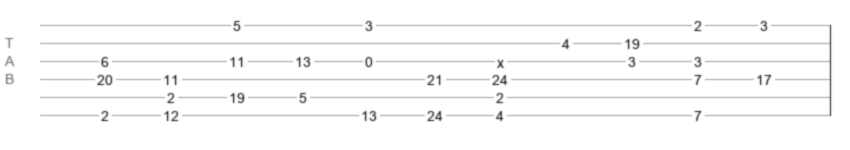0: (365, 54, 373, 64)
11: (163, 72, 179, 82), (229, 54, 245, 64)
12: (163, 108, 179, 118)
13: (295, 54, 311, 64), (361, 108, 377, 118)
17: (756, 72, 772, 82)
19: (229, 90, 245, 100), (624, 36, 640, 46)
2: (101, 108, 109, 118), (167, 90, 175, 100), (496, 90, 504, 100), (694, 18, 702, 28)
20: (97, 72, 113, 82)
21: (427, 72, 443, 82)
24: (427, 108, 443, 118), (492, 72, 508, 82)
3: (365, 18, 373, 28), (628, 54, 636, 64), (694, 54, 702, 64), (760, 18, 768, 28)
4: (496, 108, 504, 118), (562, 36, 570, 46)
5: (233, 18, 241, 28), (299, 90, 307, 100)
6: (101, 54, 109, 64)
7: (694, 72, 702, 82), (694, 108, 702, 118)
x: (497, 55, 504, 63)
